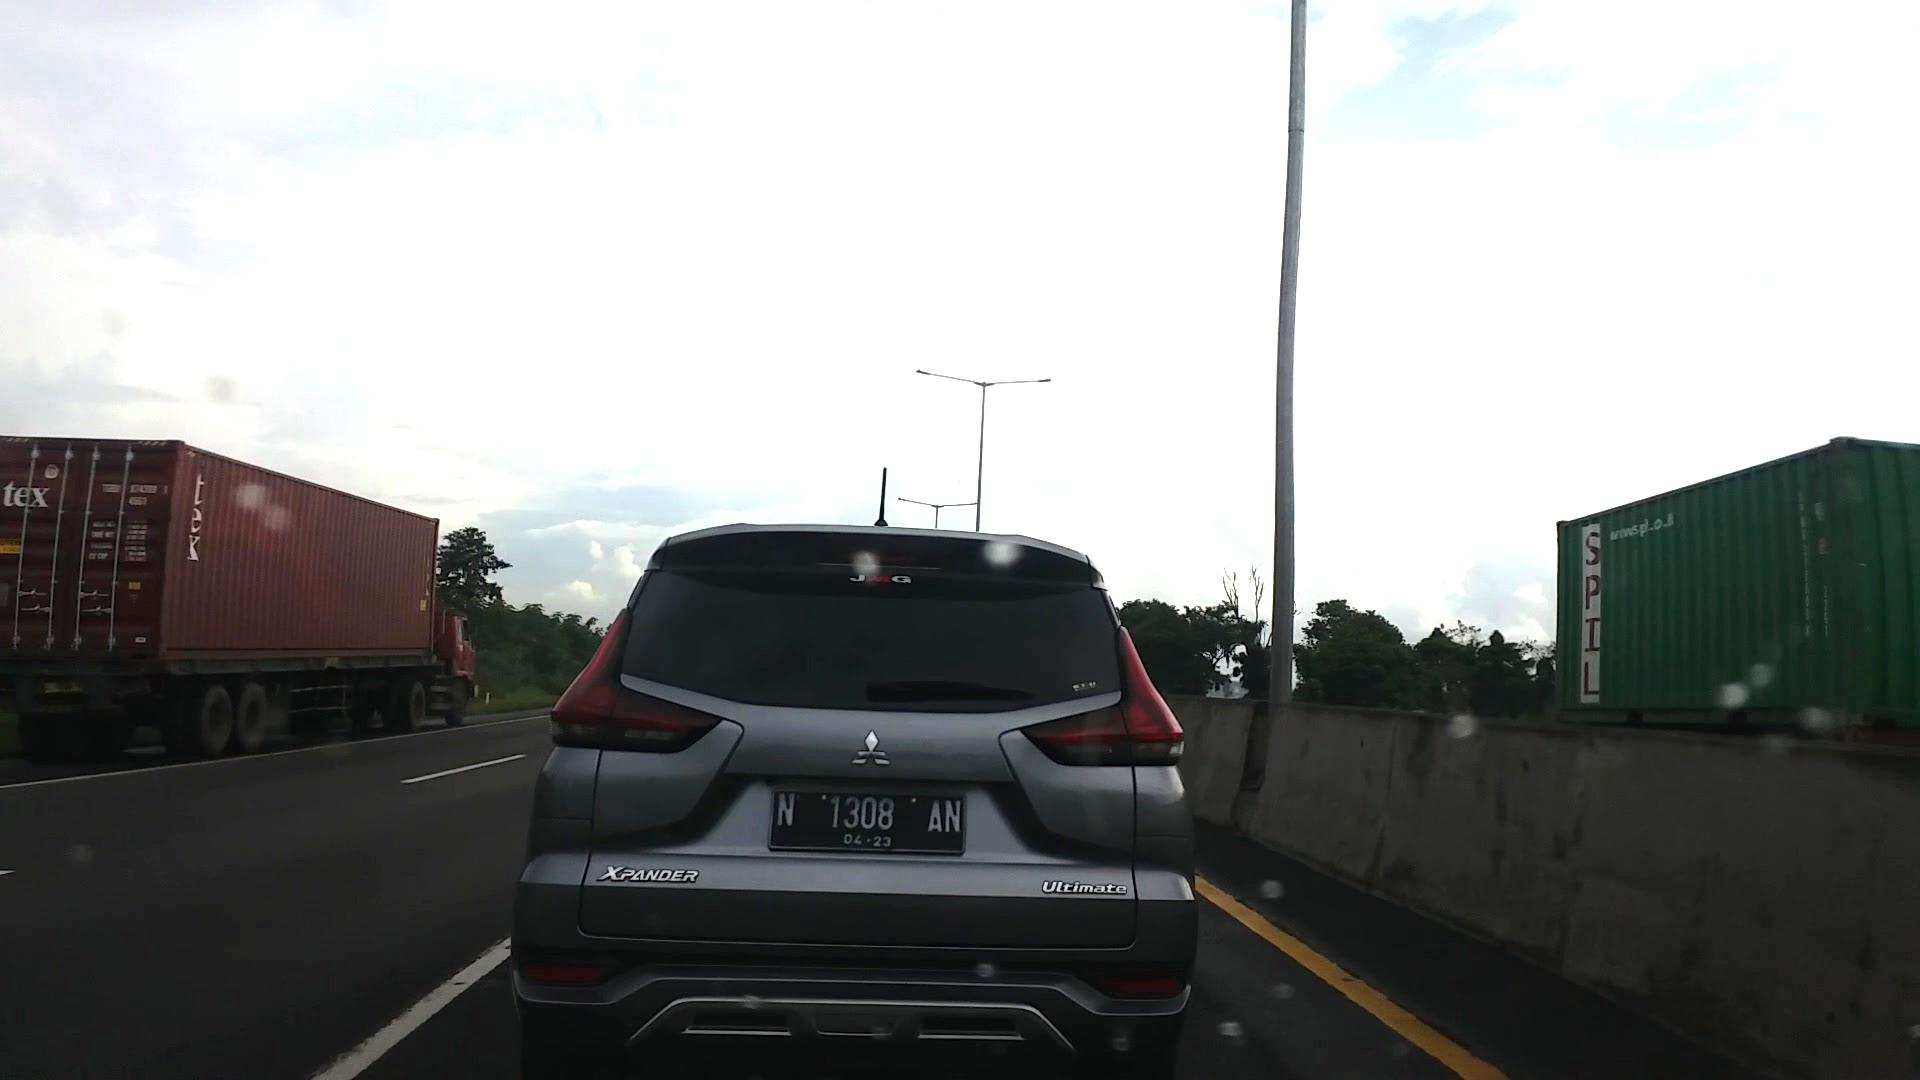plate_positive: (767, 789, 965, 856)
